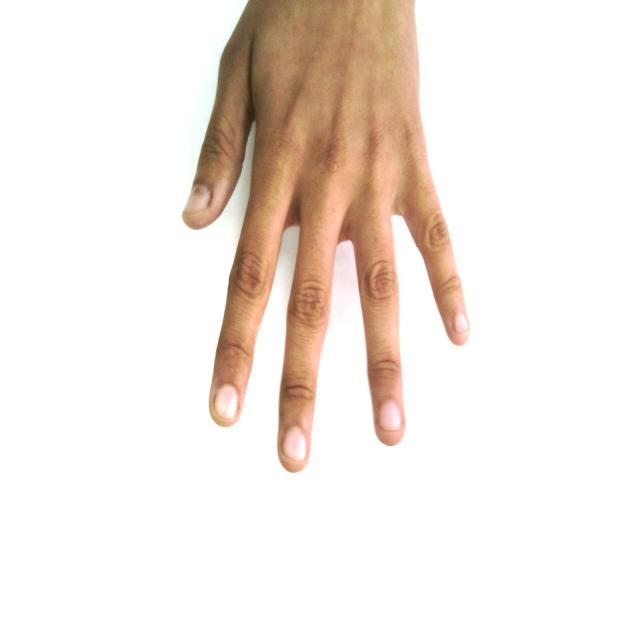Fingernail: (284, 427, 306, 460), (216, 387, 237, 418), (186, 187, 210, 213), (380, 402, 402, 430), (454, 312, 469, 332)
